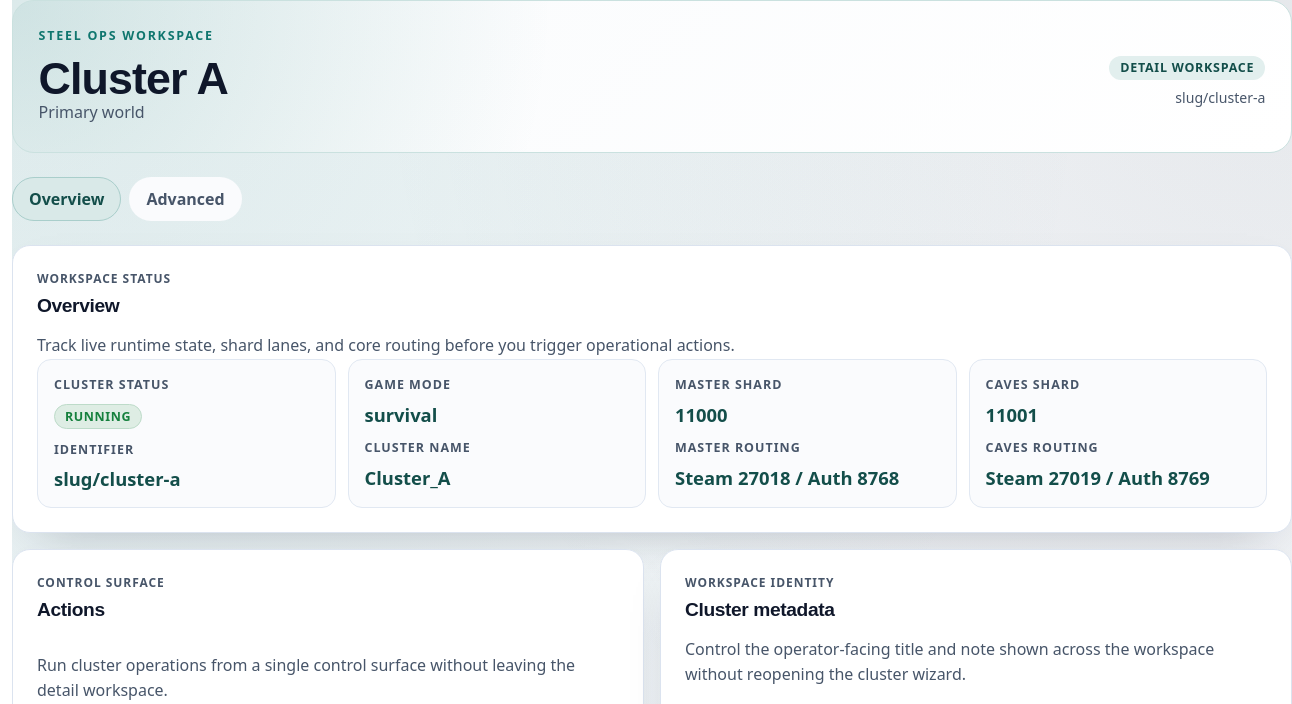
Scenario: ClusterDetailPage › shows raw editor guidance in advanced mode
Click the button "Advanced".
click(186, 199)  # box 129,177 -> 242,221
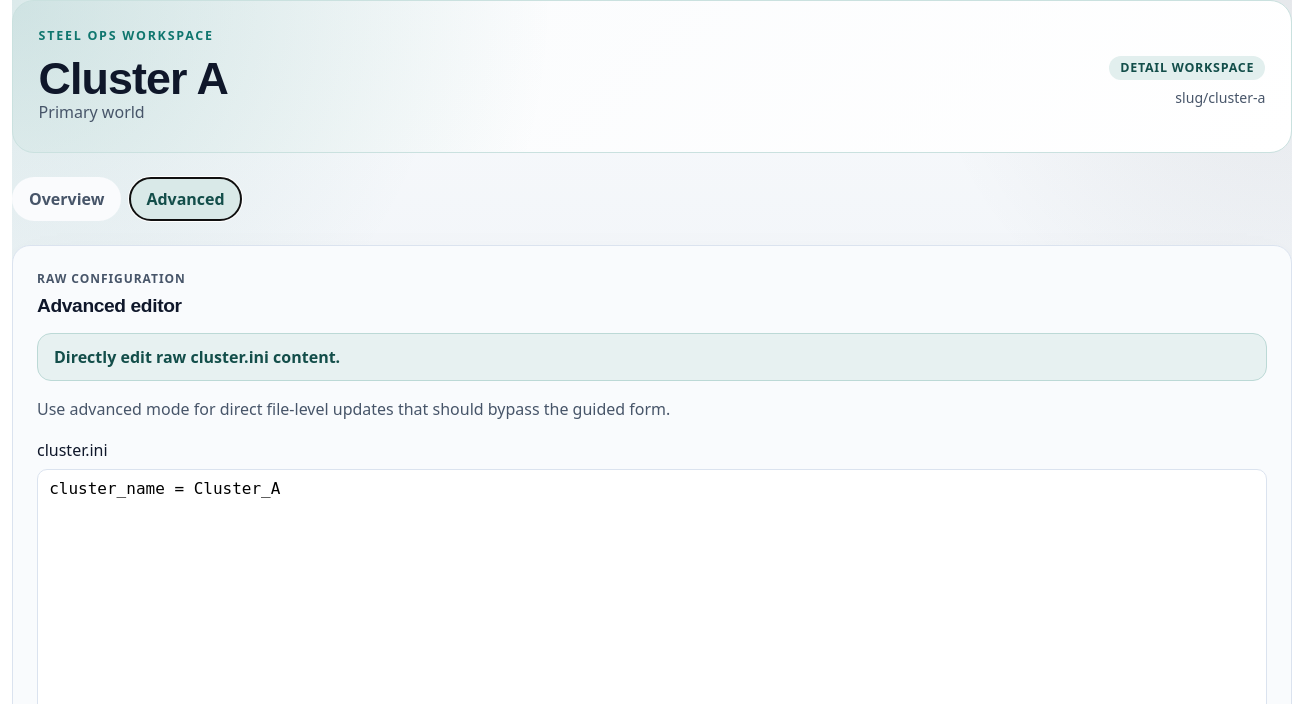
Expected: the text "Directly edit raw cluster.ini content." is shown, 37,333 -> 1267,381
